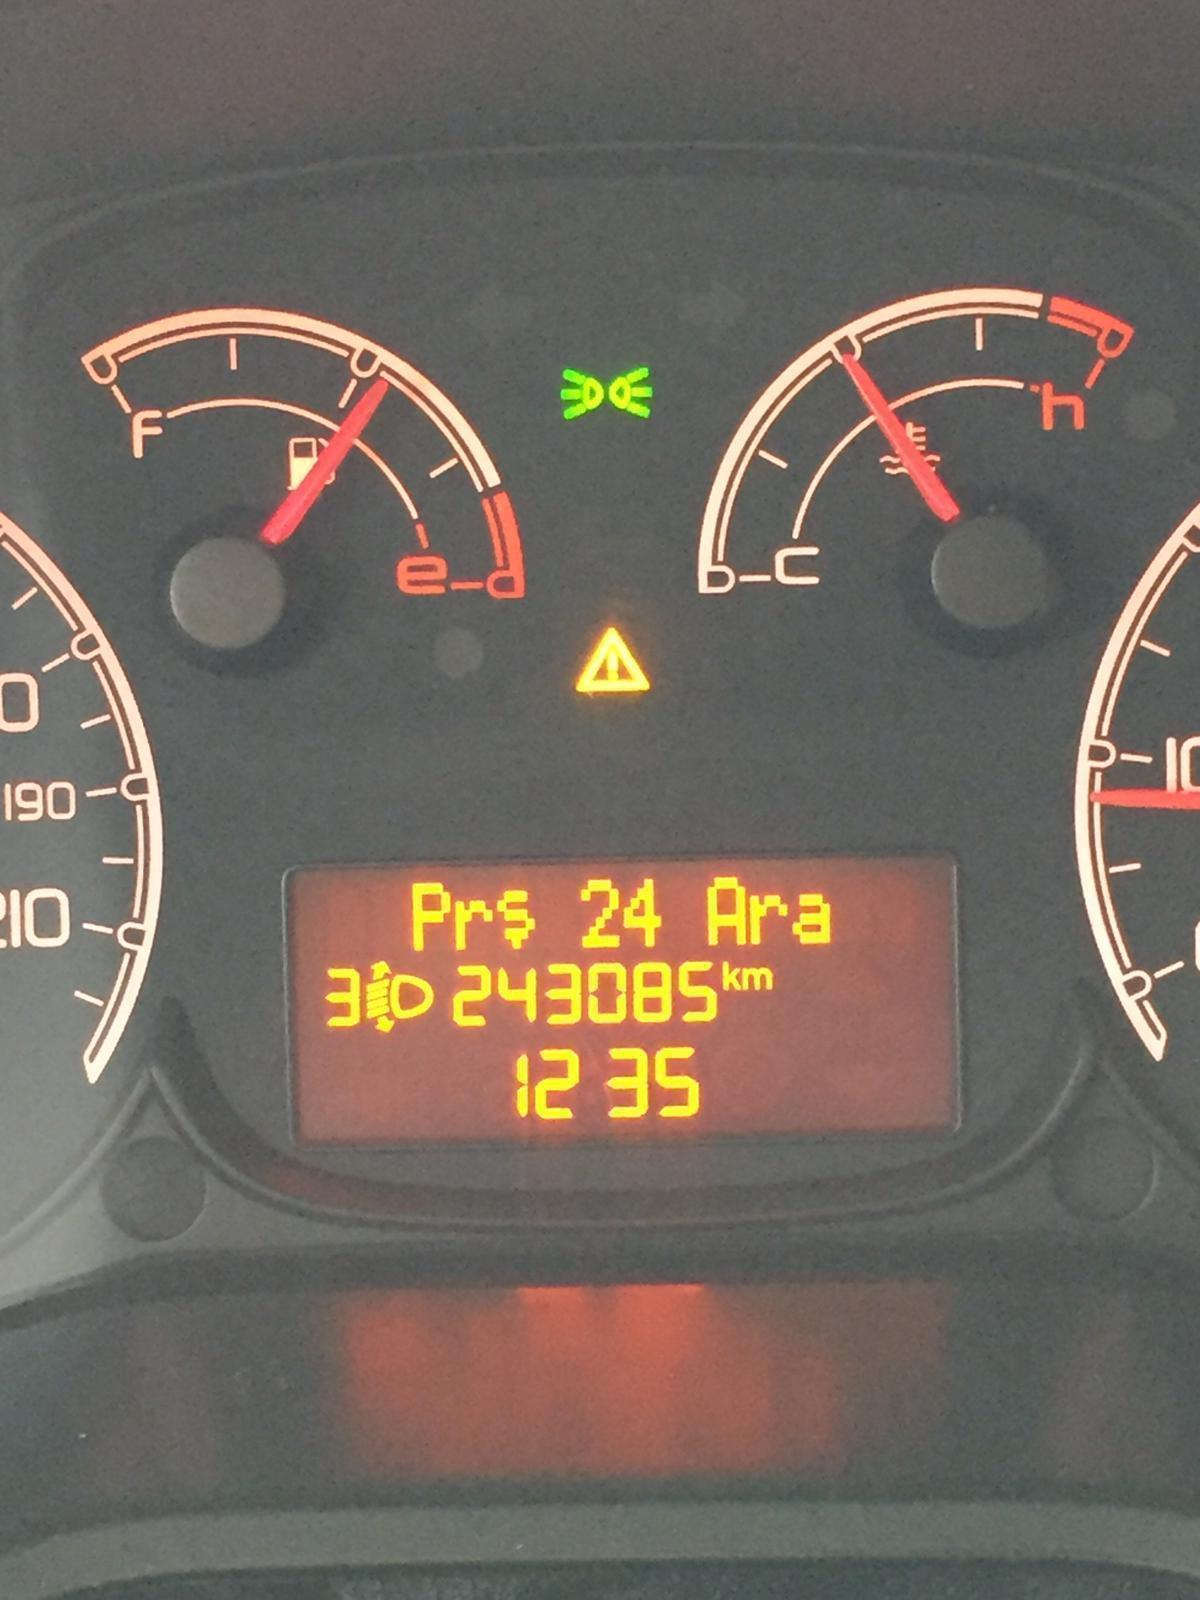0: (587, 957, 628, 1026)
1: (509, 1044, 529, 1124)
2: (534, 1046, 579, 1121), (579, 876, 621, 952), (453, 959, 492, 1031)
3: (600, 1043, 650, 1123), (321, 957, 361, 1034), (543, 959, 582, 1027)
4: (494, 960, 539, 1027), (626, 874, 666, 951)
5: (650, 1044, 705, 1123), (678, 956, 715, 1031)
8: (633, 957, 673, 1028)
X: (408, 877, 449, 956), (706, 873, 747, 949), (498, 884, 538, 952), (792, 886, 833, 946), (747, 888, 789, 947), (454, 894, 493, 952), (742, 963, 775, 997), (720, 956, 742, 995)
odometer: (281, 847, 971, 1143)
